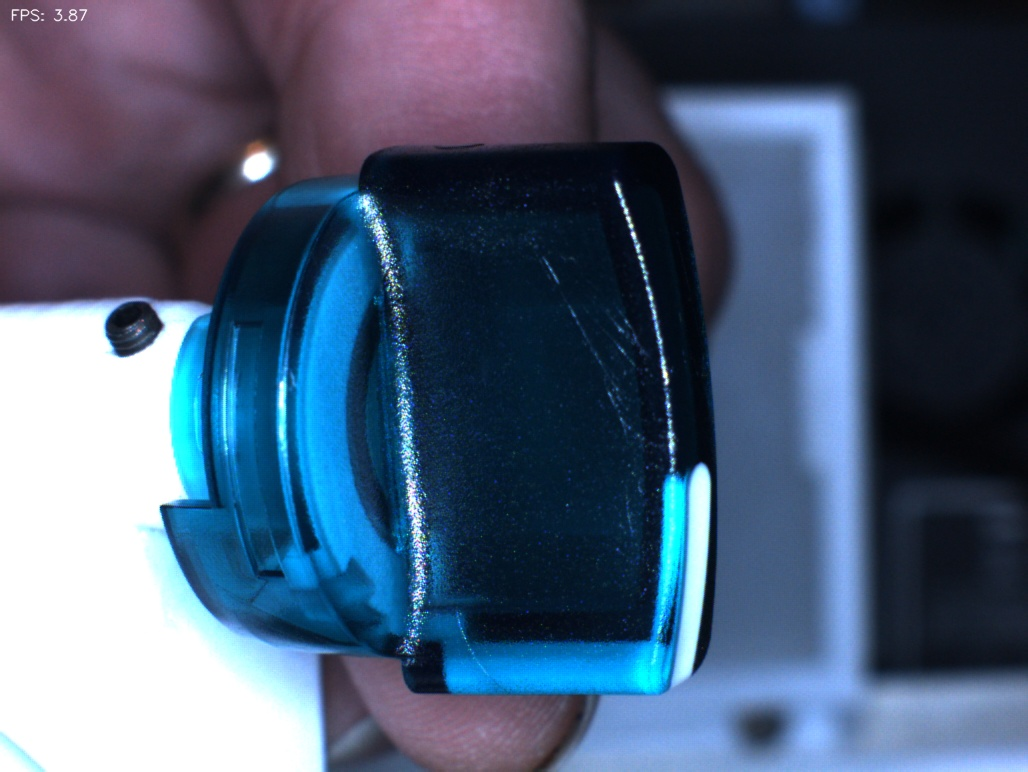Givrage: (521, 236, 650, 450)
